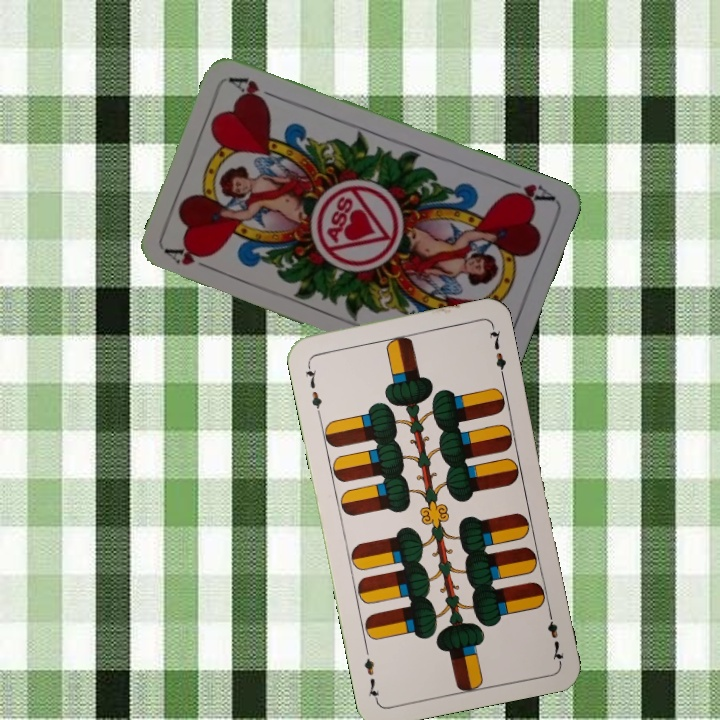E7: (543, 606, 567, 665), (301, 359, 325, 417)
HA: (499, 175, 557, 207), (162, 243, 219, 274)
